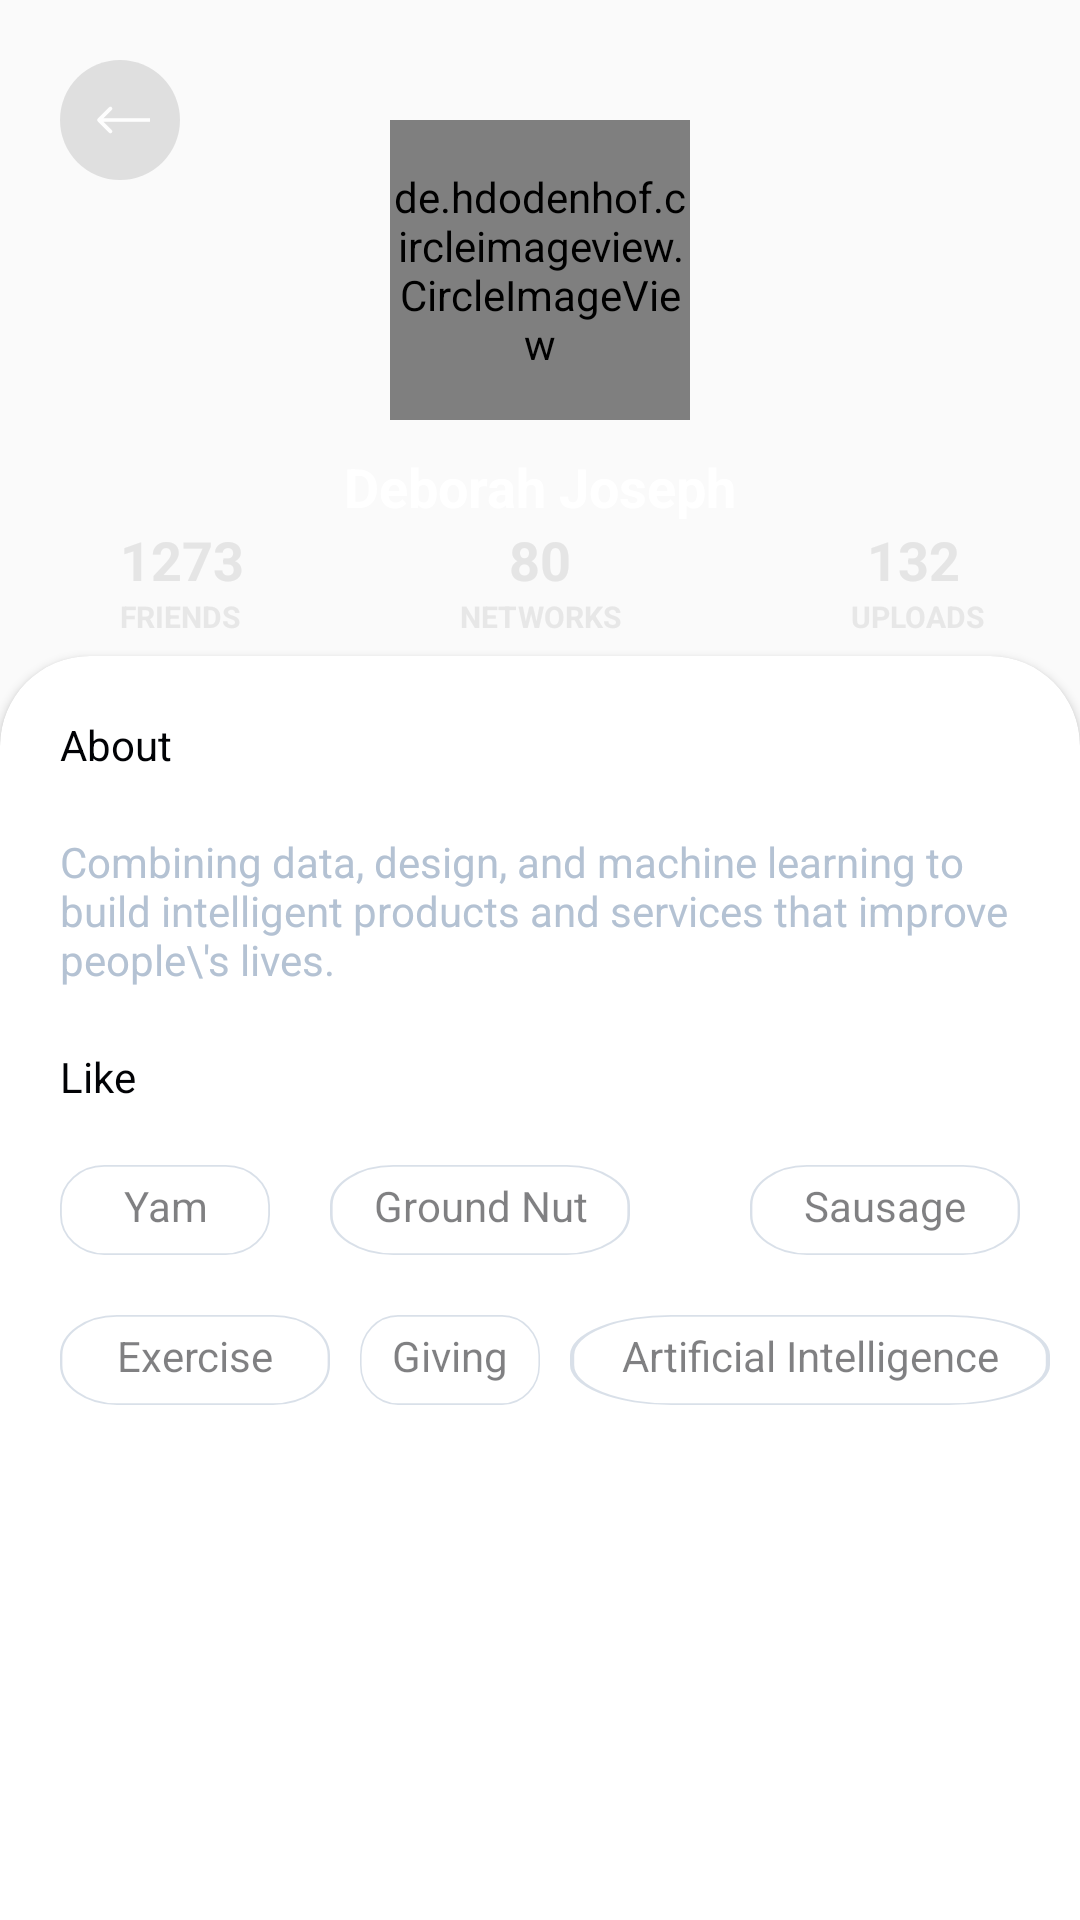

Icons on this 1080*1920 Android screen, each with the point to tap as (x,y):
back: (120,120)
